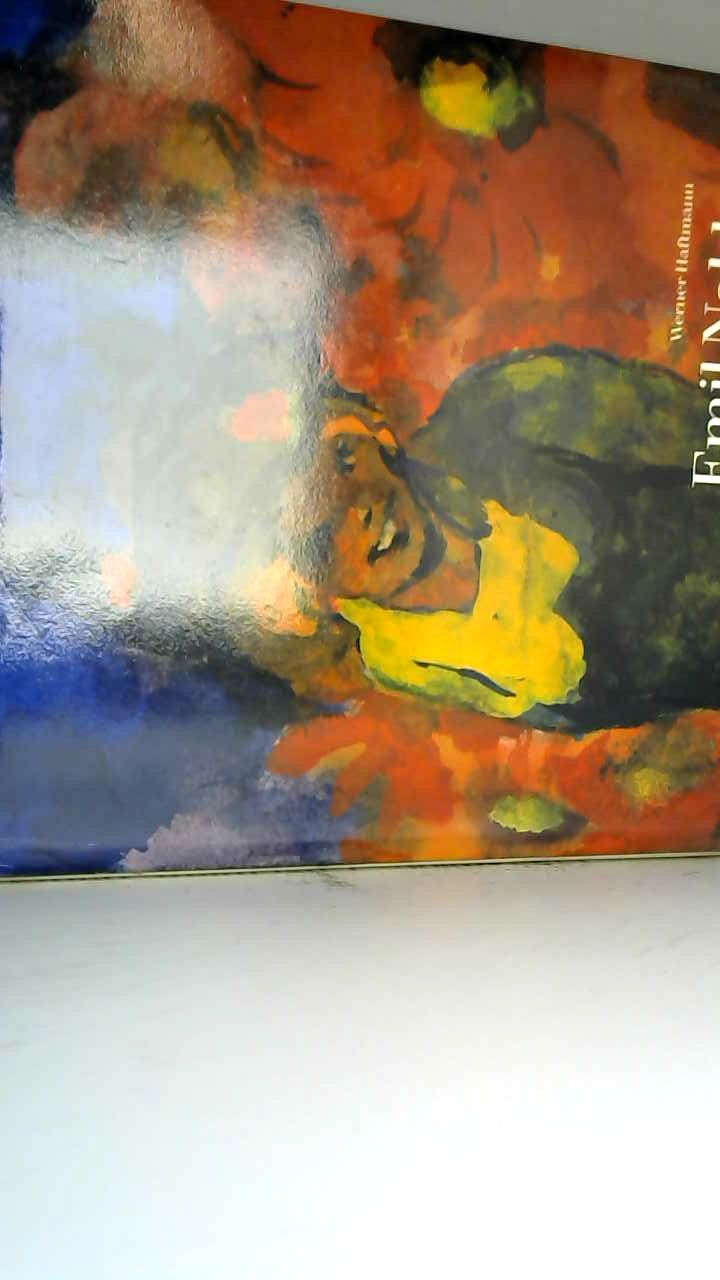book: (0, 0, 720, 909)
